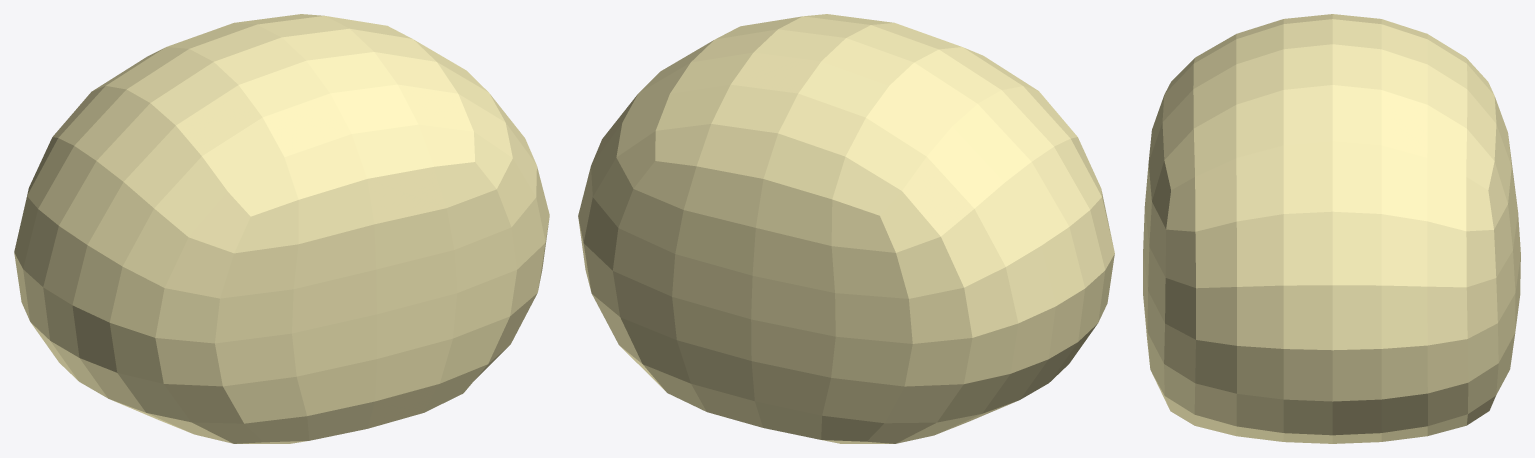
The model's file is Bread_kiji_nomal.fbx.
The picture shows the model from 3 angles, left to right: view 1: azimuth 30°, elevation 25°; view 2: azimuth 150°, elevation 25°; view 3: azimuth 270°, elevation 25°; orthographic projection.
Visible parts, largest first — view 1: Cube; view 2: Cube; view 3: Cube.
Part boxes in pixels (left/top/right/bottom): Cube: left=14, top=14, right=549, bottom=443; Cube: left=578, top=14, right=1114, bottom=443; Cube: left=1143, top=14, right=1520, bottom=443.
Size of the model in its own units: 2.77 by 1.91 by 1.91.
